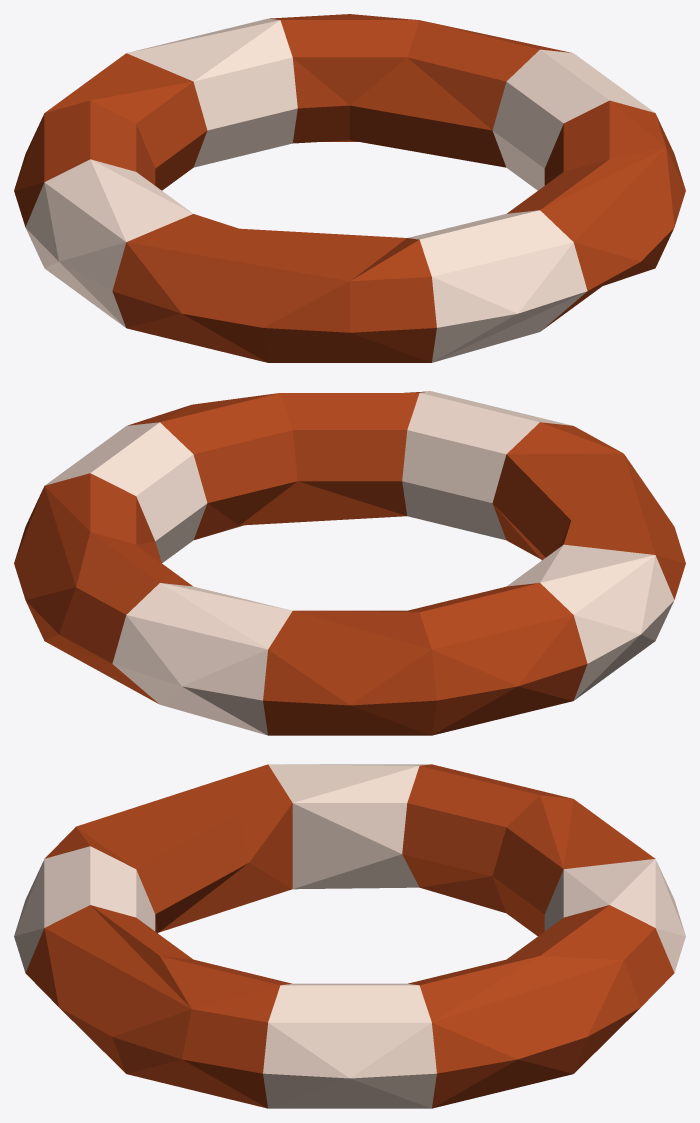
Rendered from lifebuoy_01.fbx.
3 views of the same model, one above another, from view 1: azimuth 30°, elevation 25°; view 2: azimuth 150°, elevation 25°; view 3: azimuth 270°, elevation 25° (orthographic).
Visible parts, largest first — view 1: Lifebuoy_01; view 2: Lifebuoy_01; view 3: Lifebuoy_01.
Part boxes in pixels (x1,y1,x2,y2): Lifebuoy_01: (14,14,685,362); Lifebuoy_01: (14,391,685,735); Lifebuoy_01: (14,764,685,1108).
Size of the model in its own units: 39.37 by 39.37 by 7.87.
